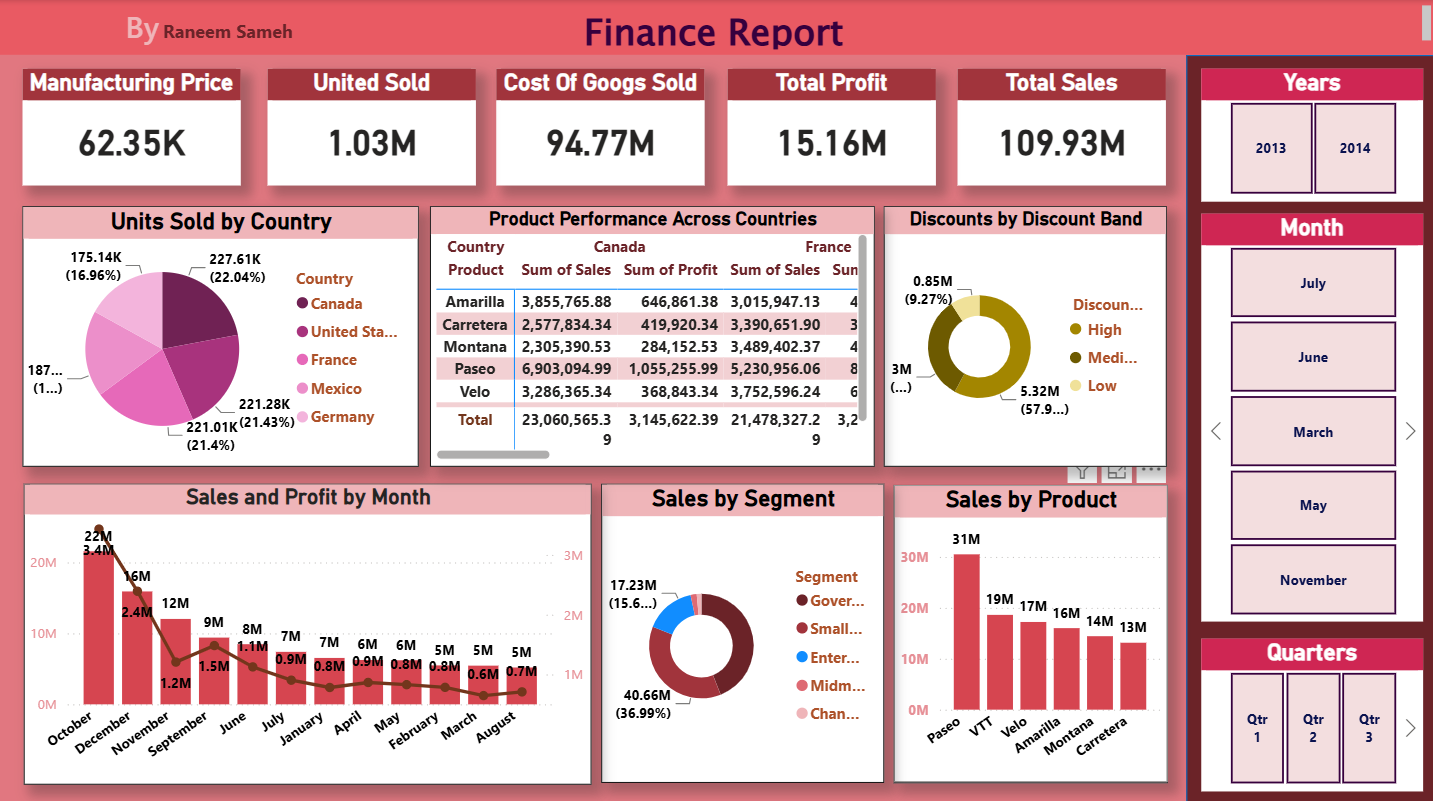

The page's visual inventory and layout, read from the dashboard file:
{"tool":"powerbi","page":{"name":"Page 1","canvas":[1280,720],"ordinal":0},"visuals":[{"type":"textbox","box":[0,0,1279.7,49.1],"z":0},{"type":"shape","box":[1056.6,49,223.2,670.8],"z":1000},{"type":"card","title":"Total Sales","fields":{"Values":["Sum(Financials.  Sales )"]},"box":[853,61.5,185.8,103.8],"z":2000},{"type":"card","title":"Total Profit","fields":{"Values":["Sum(Financials. Profit )"]},"box":[647.9,61.5,185.8,103.8],"z":3000},{"type":"card","title":"Cost Of Googs Sold","fields":{"Values":["Sum(Financials. COGS )"]},"box":[441.6,61.5,185.8,103.8],"z":4000},{"type":"card","title":"Manufacturing Price","fields":{"Values":["Sum(Financials. Manufacturing Price )"]},"box":[20.5,61.5,194.2,103.8],"z":5000},{"type":"card","title":"United Sold","fields":{"Values":["Sum(Financials. Units Sold )"]},"box":[237.7,61.5,185.8,103.8],"z":6000},{"type":"pieChart","title":"Units Sold  Per Country","fields":{"Y":["Sum(Financials. Units Sold )"],"Category":["Financials.Country"]},"box":[20.4,183.8,352.7,231.8],"z":7000},{"type":"columnChart","title":"Sales  Per  Product ","fields":{"Y":["Sum(Financials.  Sales )"],"Category":["Financials. Product "]},"box":[795.7,431.8,243.8,265.5],"z":8000},{"type":"donutChart","title":"Sales  Per Segment ","fields":{"Category":["Financials.Segment"],"Y":["Sum(Financials.  Sales )"]},"box":[534.9,431.2,252.1,266.6],"z":9000},{"type":"lineClusteredColumnComboChart","title":"Sales  and Profit  Per  Month ","fields":{"Y":["Sum(Financials.  Sales )"],"Category":["Financials. Month Name "],"Y2":["Sum(Financials. Profit )"]},"box":[21,431.2,505.5,267.8],"z":10000},{"type":"donutChart","title":"Discounts  Per  Discount Band ","fields":{"Category":["Financials. Discount Band "],"Y":["Sum(Financials. Discounts )"]},"box":[787.1,183.9,252.1,231.6],"z":11000},{"type":"pivotTable","title":"Product Performance Across Countries","fields":{"Rows":["Financials. Product "],"Columns":["Financials.Country"],"Values":["Sum(Financials.  Sales )","Sum(Financials. Profit )"]},"box":[382.9,183.9,395.7,231.6],"z":12000},{"type":"slicer","title":"Years","fields":{"Values":["Financials.Date.Variation.Date Hierarchy.Year1"]},"box":[1069.5,61.5,197.7,118.3],"z":13000},{"type":"slicer","title":"Month","fields":{"Values":["Financials.Date.Variation.Date Hierarchy.Month"]},"box":[1069.5,189.9,197.7,363.6],"z":14000},{"type":"slicer","title":"Quarters","fields":{"Values":["Financials.Date.Variation.Date Hierarchy.Quarter1"]},"box":[1069.5,569.4,197.7,135.6],"z":15000},{"type":"textbox","box":[99.6,0,174.6,54.8],"z":15001}]}

Visuals, with their boxes in screenshot pixels (x1, y1, x2, y2), scaled from the page's 1280x720 canvas onto the 1433x801 screenshot:
textbox: <region>0, 0, 1432, 55</region>
shape: <region>1183, 55, 1432, 800</region>
"Total Sales" card: <region>955, 68, 1163, 184</region>
"Total Profit" card: <region>725, 68, 933, 184</region>
"Cost Of Googs Sold" card: <region>494, 68, 702, 184</region>
"Manufacturing Price" card: <region>23, 68, 240, 184</region>
"United Sold" card: <region>266, 68, 474, 184</region>
"Units Sold  Per Country" pieChart: <region>23, 204, 418, 462</region>
"Sales  Per  Product " columnChart: <region>891, 480, 1164, 776</region>
"Sales  Per Segment " donutChart: <region>599, 480, 881, 776</region>
"Sales  and Profit  Per  Month " lineClusteredColumnComboChart: <region>24, 480, 589, 778</region>
"Discounts  Per  Discount Band " donutChart: <region>881, 205, 1163, 462</region>
"Product Performance Across Countries" pivotTable: <region>429, 205, 872, 462</region>
"Years" slicer: <region>1197, 68, 1419, 200</region>
"Month" slicer: <region>1197, 211, 1419, 616</region>
"Quarters" slicer: <region>1197, 633, 1419, 784</region>
textbox: <region>112, 0, 307, 61</region>
